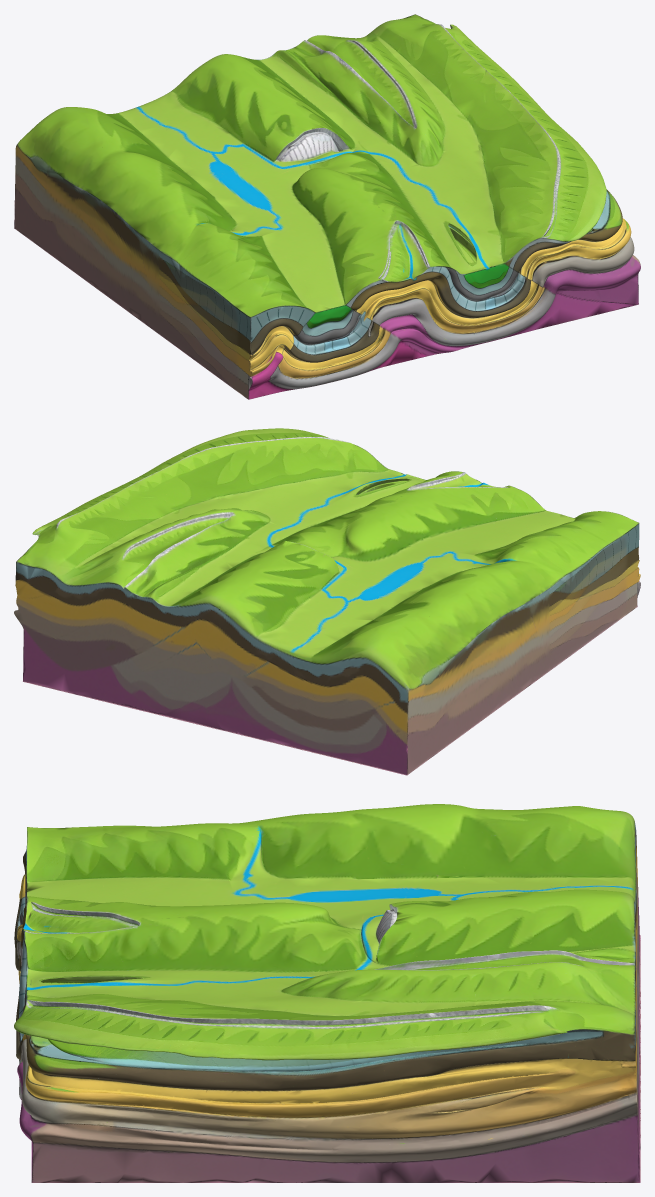
File: KıvrımlıSaha.glb
3 views of the same model, one above another, from view 1: azimuth 30°, elevation 25°; view 2: azimuth 150°, elevation 25°; view 3: azimuth 270°, elevation 25° (orthographic). The views are drawn at different scales.
Visible parts, largest first — view 1: Mesh_0; view 2: Mesh_0; view 3: Mesh_0.
Part boxes in pixels (left/top/right/bottom): Mesh_0: left=14, top=14, right=640, bottom=399; Mesh_0: left=14, top=428, right=640, bottom=775; Mesh_0: left=14, top=804, right=640, bottom=1182.
Bounding box in the file's own units: 1.88 × 0.5951 × 1.91.
Materials: 1 (1 with a texture image).
